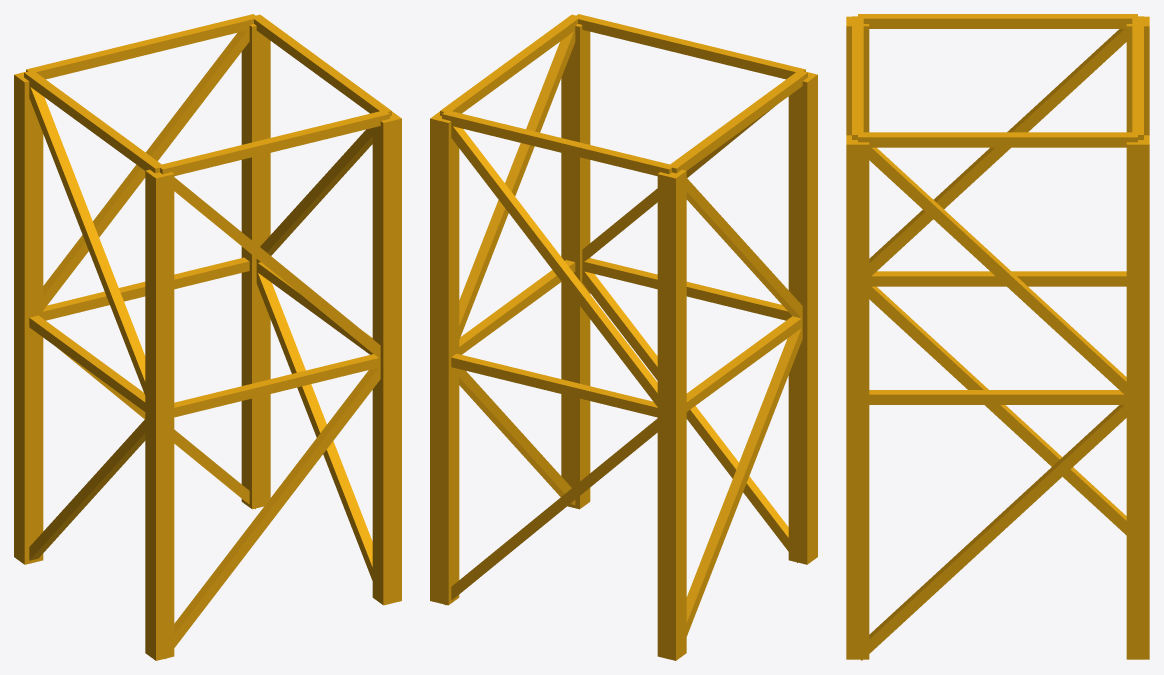
File: plant.crane.mast_section.glb
3 renders of one model, left to right at view 1: azimuth 30°, elevation 25°; view 2: azimuth 150°, elevation 25°; view 3: azimuth 270°, elevation 25°, orthographic. The views are drawn at different scales.
Visible parts, largest first — view 1: main__plant_yellow; view 2: main__plant_yellow; view 3: main__plant_yellow.
Part boxes in pixels (x1,y1,x2,y2): main__plant_yellow: (14, 14, 401, 660); main__plant_yellow: (430, 14, 817, 660); main__plant_yellow: (846, 14, 1149, 660).
Size of the model in its own units: 1.6 by 3.05 by 1.6.
